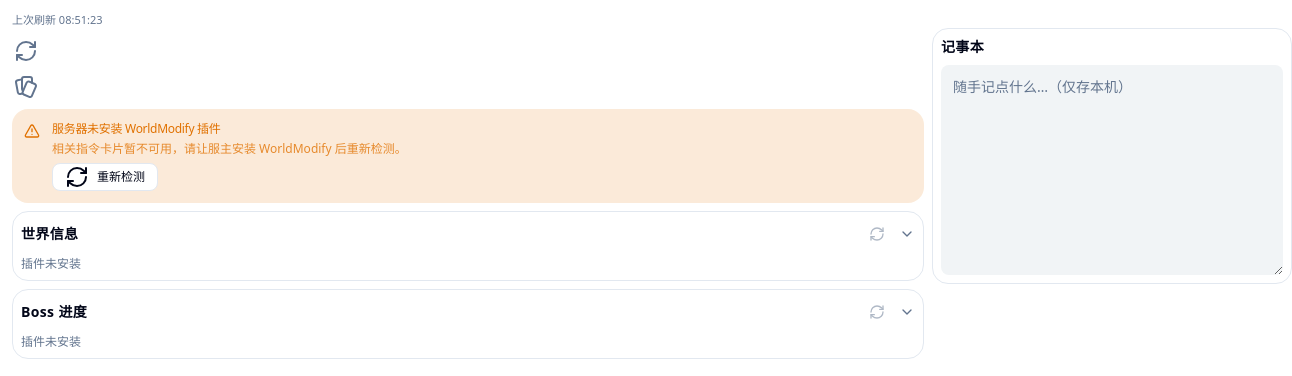
Test: CommandModulePage 插件探测 › 「重新检测」：装上插件后提示消失、卡片恢复
Expected: the text "服务器未安装 WorldModify 插件" is shown, [52,120,220,136]
Click the button "重新检测" at (105, 176), box [52,162,158,190]
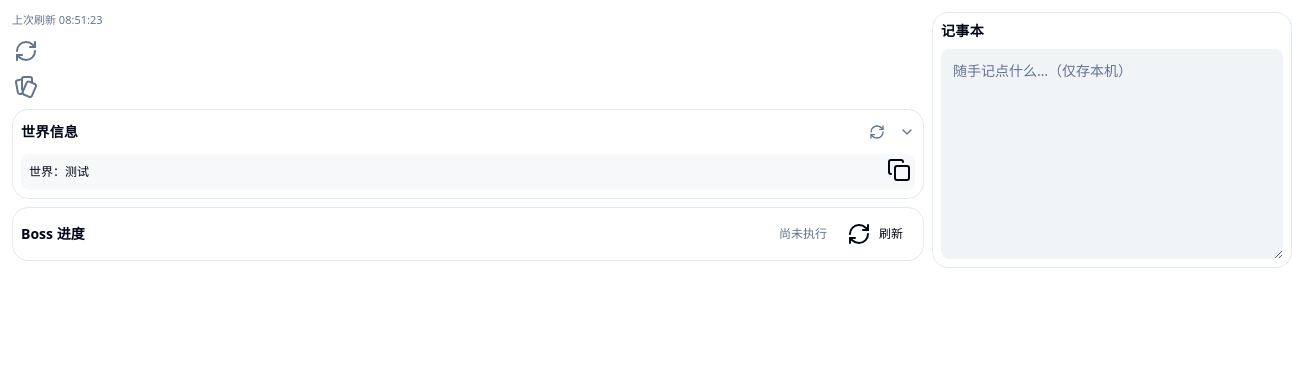
Now the text "服务器未安装 WorldModify 插件" is gone
Now the text "世界：测试" is shown, box [29,164,89,178]
